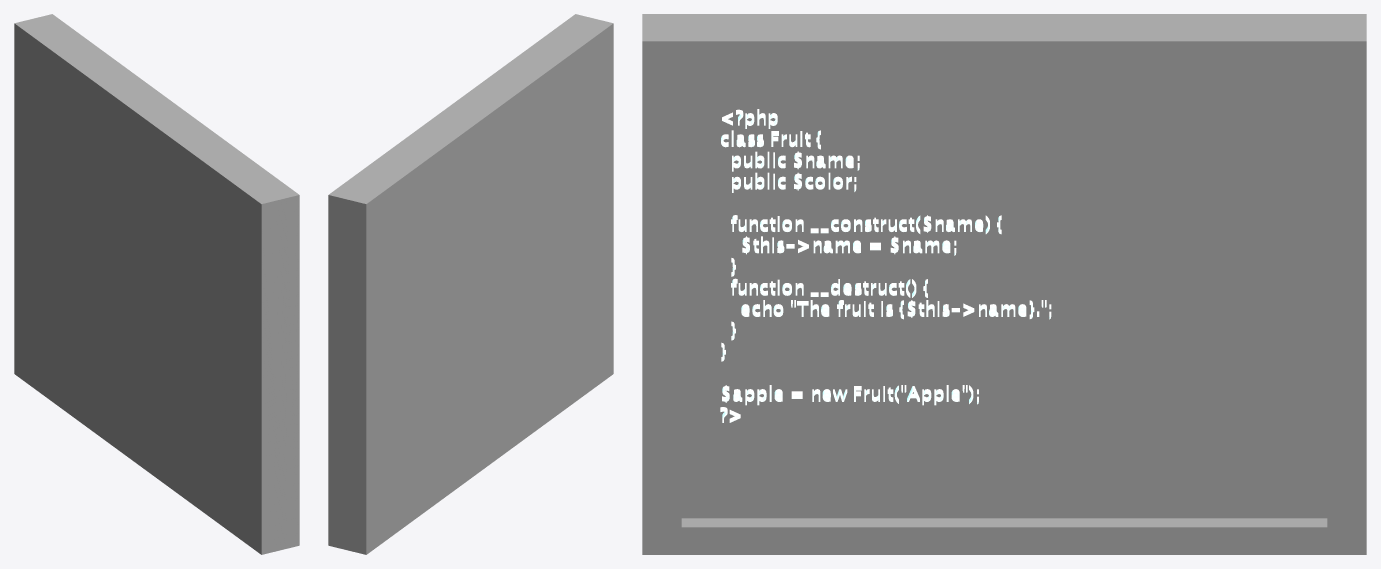
The model's file is tabProg.gltf.
3 views of the same model, side by side, from view 1: azimuth 30°, elevation 25°; view 2: azimuth 150°, elevation 25°; view 3: azimuth 270°, elevation 25° (orthographic). The views are drawn at different scales.
Parts seen in each view (by area): view 1: pCube99; view 2: pCube99; view 3: pCube99.
Part boxes in pixels (bbox=[...]): pCube99: bbox=[14, 14, 299, 554]; pCube99: bbox=[328, 14, 613, 554]; pCube99: bbox=[642, 14, 1366, 554].
Bounding box in the file's own units: 0.00372 × 0.0328 × 0.0418.
